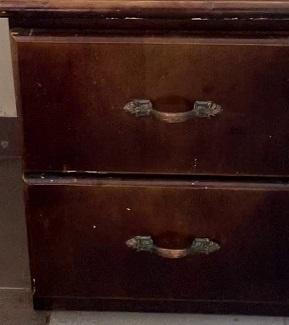cabinet_door: (18, 42, 289, 174), (27, 184, 289, 305)
handle: (123, 232, 223, 264), (121, 96, 226, 125)
